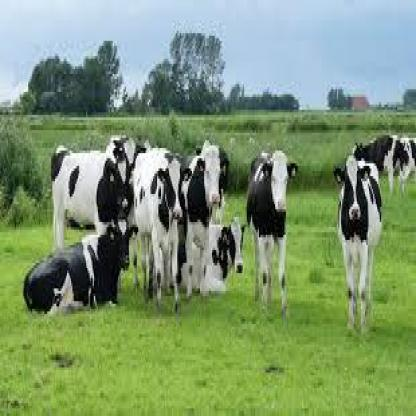cow: (23, 224, 138, 316), (133, 148, 192, 311), (246, 150, 299, 314), (334, 154, 383, 330), (51, 146, 130, 250), (186, 221, 247, 297), (183, 146, 229, 230), (352, 135, 402, 194), (105, 134, 147, 185), (397, 137, 416, 195)
